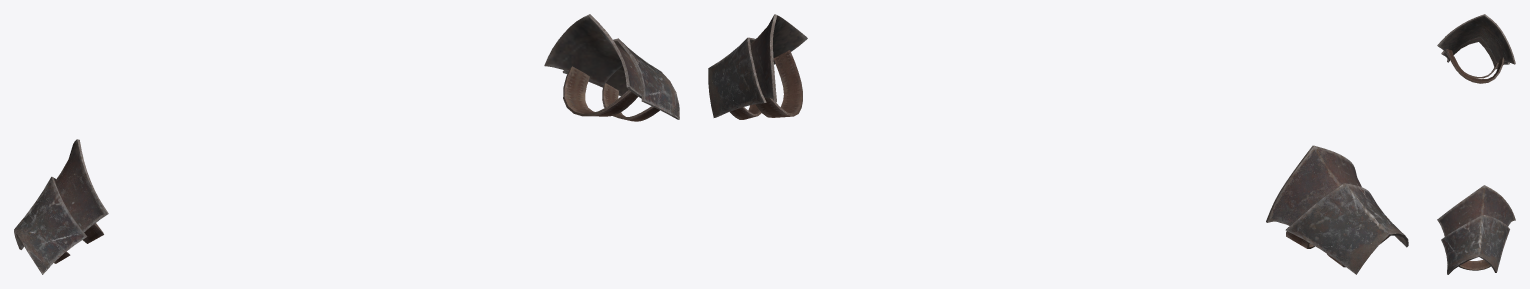
The model's file is sk_dg_uruk_bracer_med_b.fbx.
3 renders of one model, left to right at view 1: azimuth 30°, elevation 25°; view 2: azimuth 150°, elevation 25°; view 3: azimuth 270°, elevation 25°, orthographic. The views are drawn at different scales.
Visible parts, largest first — view 1: sk_dg_uruk_bracer_med_b; view 2: sk_dg_uruk_bracer_med_b; view 3: sk_dg_uruk_bracer_med_b.
Part boxes in pixels (box(x1,y1,x2,y2)): sk_dg_uruk_bracer_med_b: box(14, 14, 679, 274); sk_dg_uruk_bracer_med_b: box(708, 14, 1408, 274); sk_dg_uruk_bracer_med_b: box(1437, 14, 1515, 274).
Bounding box in the file's own units: 1.33 × 0.2044 × 0.2142.
1 material, 1 textured.
